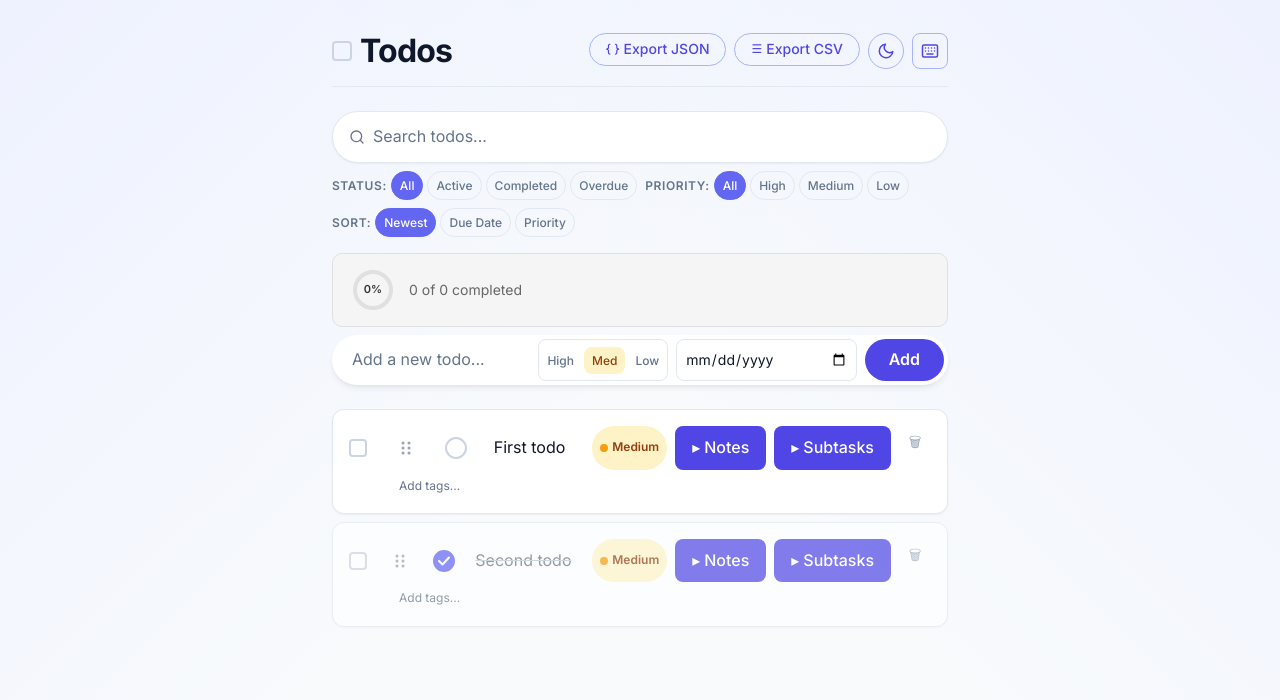
Test: TodoList › adds a new todo
Expected: the button "First todo" is shown, [494, 435, 565, 461]
Type "New todo" into the field with placeholder "Add a new todo..." at (433, 360), box [336, 339, 530, 381]
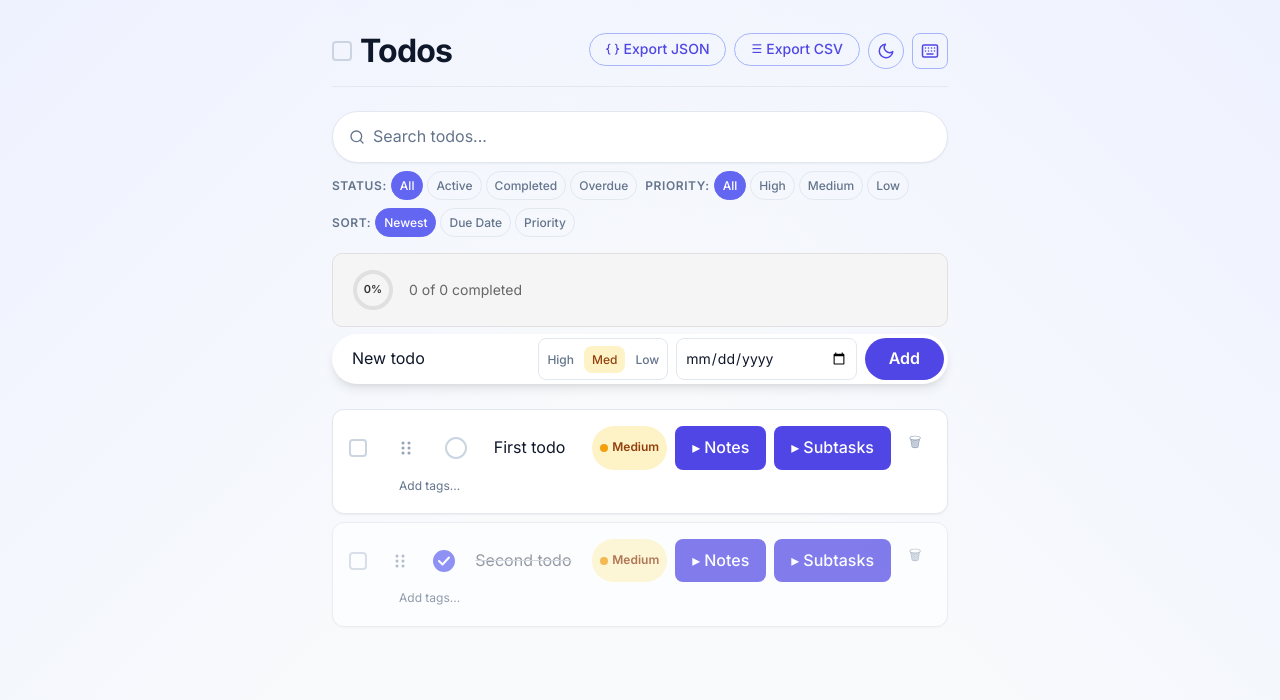
Click the button "Add" at (904, 359), box [865, 338, 944, 380]
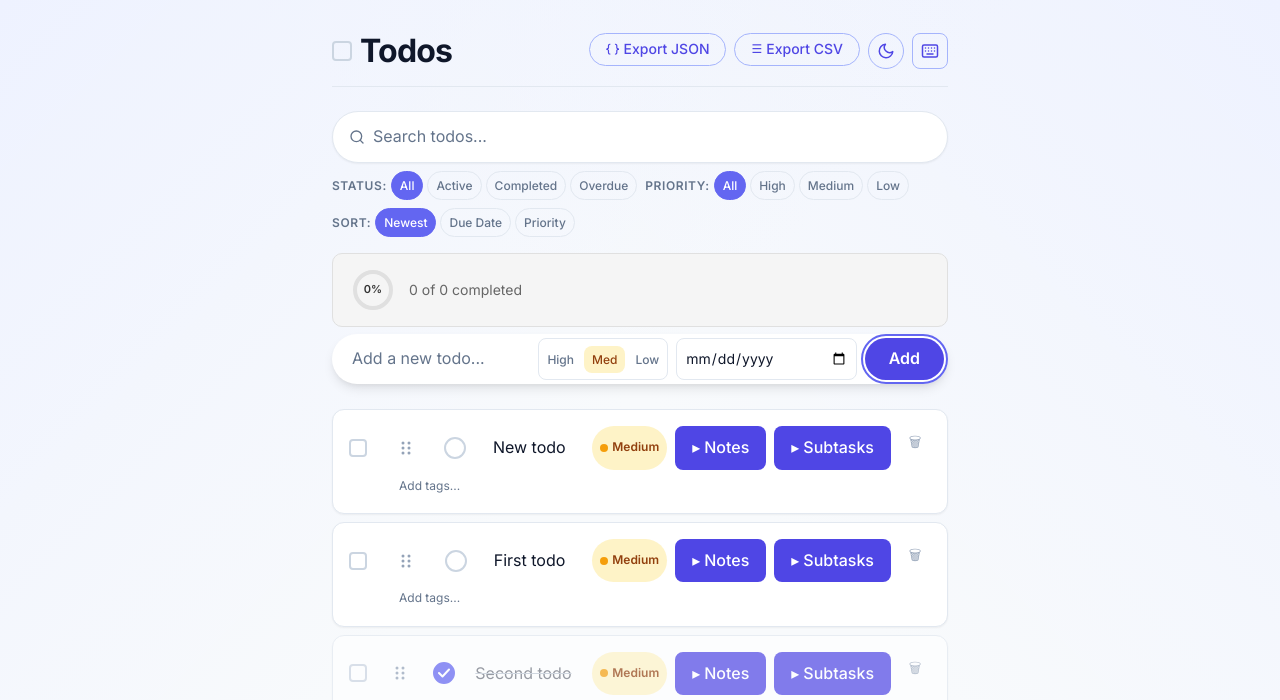
Expected: the button "New todo" is shown, [493, 435, 566, 461]
